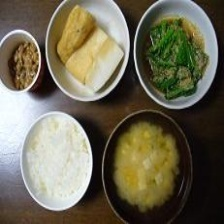rice: (22, 112, 91, 211)
